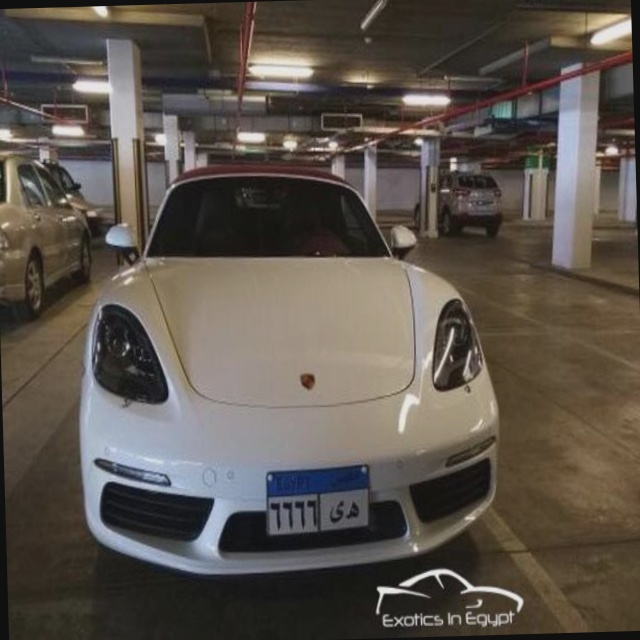License Plate: (260, 462, 372, 543)
